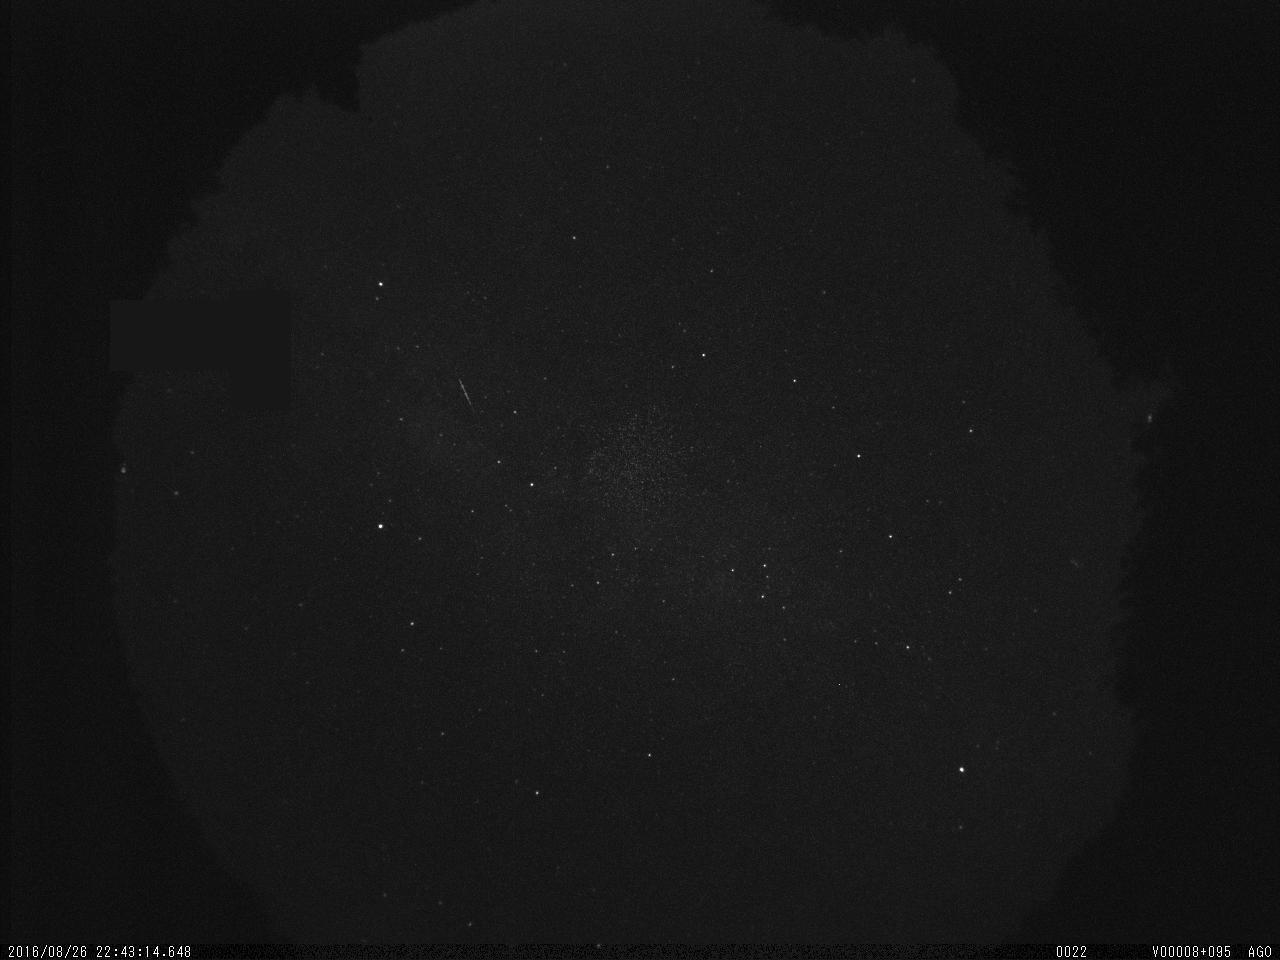meteor: (451, 370, 481, 415)
